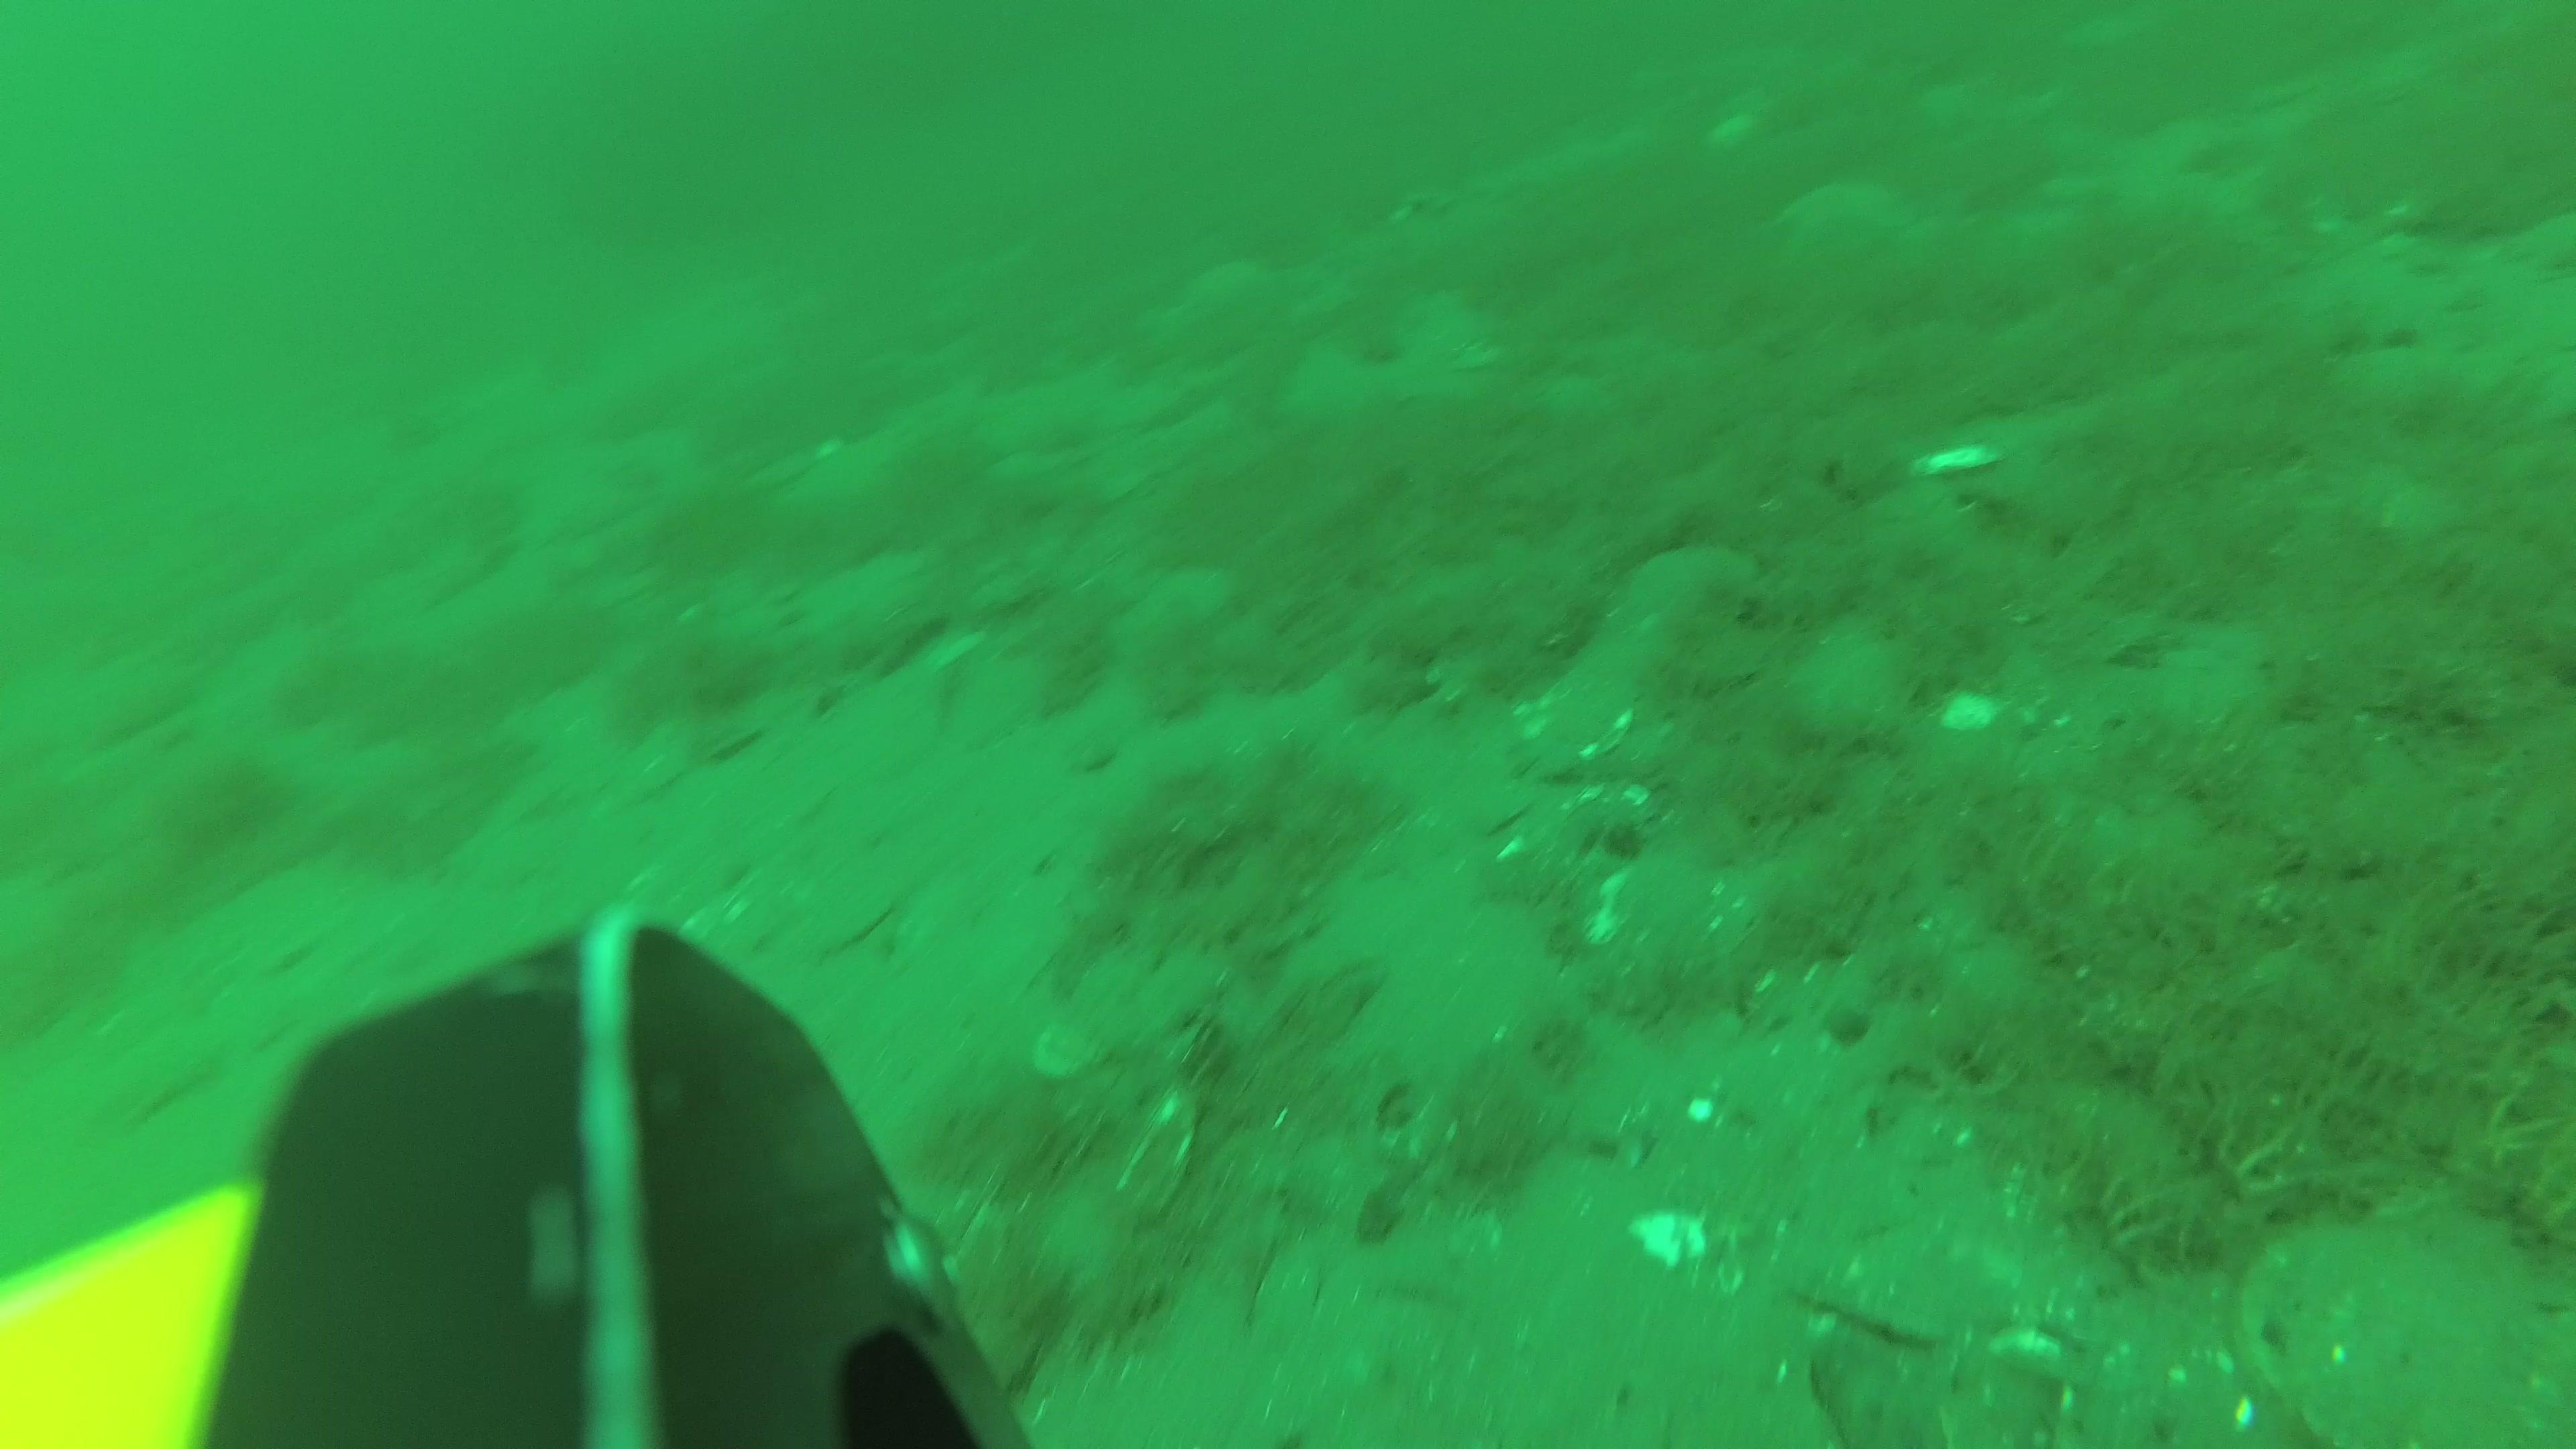scallop: (2245, 1230, 2498, 1447)
starfish: (1775, 180, 1902, 267), (1189, 255, 1274, 311)
